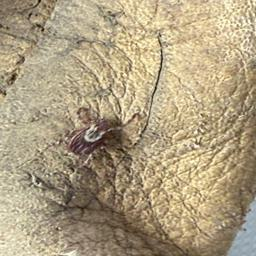Dermacentor variabilis: (68, 104, 141, 156)
